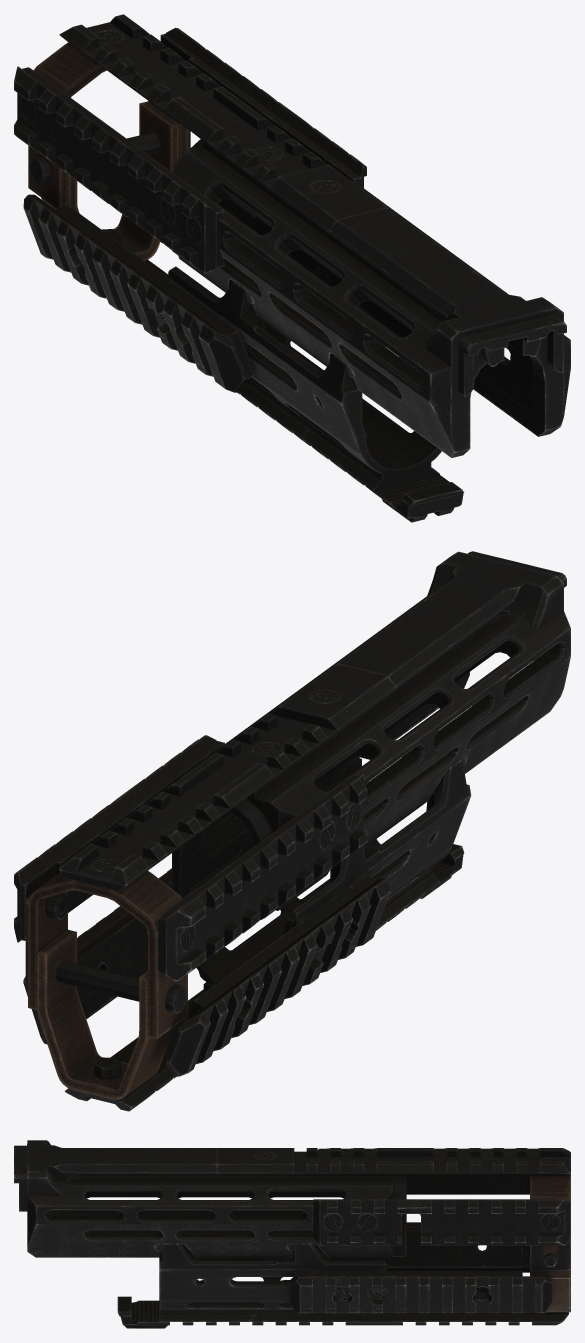
The picture shows the model from 3 angles, top to bottom: view 1: azimuth 30°, elevation 25°; view 2: azimuth 150°, elevation 25°; view 3: azimuth 270°, elevation 25°; orthographic projection. The views are drawn at different scales.
Parts seen in each view (by area): view 1: TW_5cf4e3f3d7f00c06595bc7f0_PZ_Import; view 2: TW_5cf4e3f3d7f00c06595bc7f0_PZ_Import; view 3: TW_5cf4e3f3d7f00c06595bc7f0_PZ_Import.
Part boxes in pixels (<box>): TW_5cf4e3f3d7f00c06595bc7f0_PZ_Import: <box>14,14,570,522</box>; TW_5cf4e3f3d7f00c06595bc7f0_PZ_Import: <box>14,551,570,1111</box>; TW_5cf4e3f3d7f00c06595bc7f0_PZ_Import: <box>14,1140,570,1328</box>.
Size of the model in its own units: 0.0335 by 0.1352 by 0.0446.
Materials: 1 (1 with a texture image).
